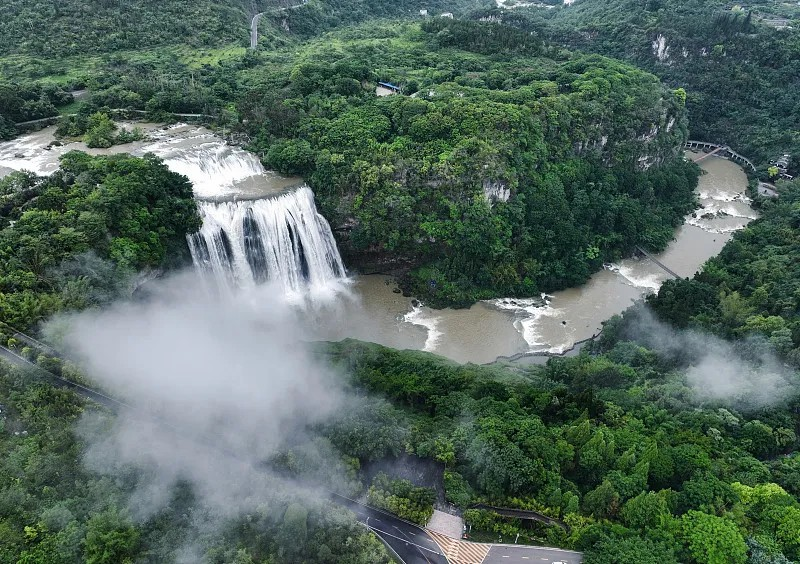Huangguoshu: (172, 152, 352, 297)
